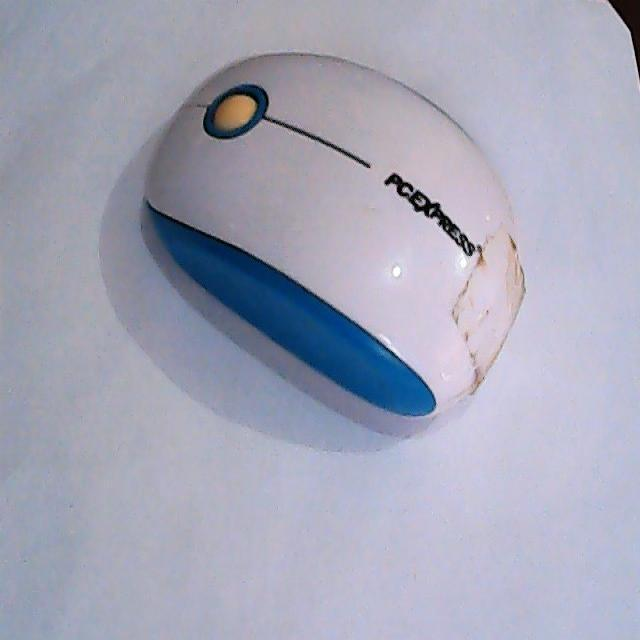Mouse: (142, 48, 528, 422)
